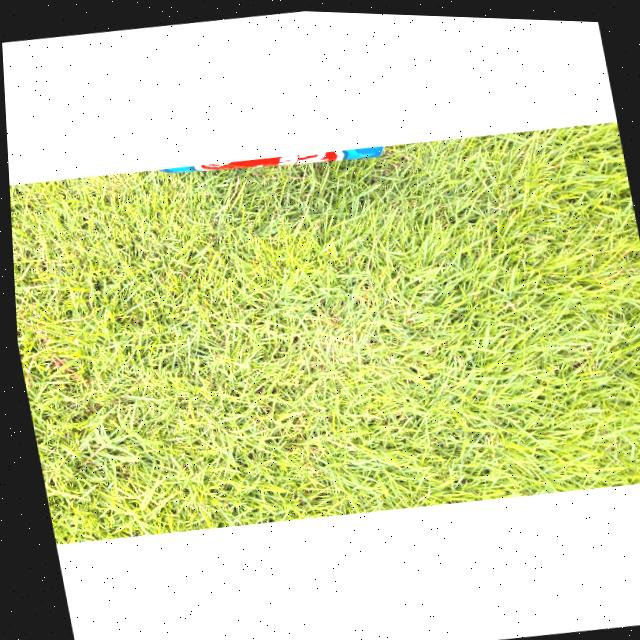Thums Up: (136, 134, 389, 193)
